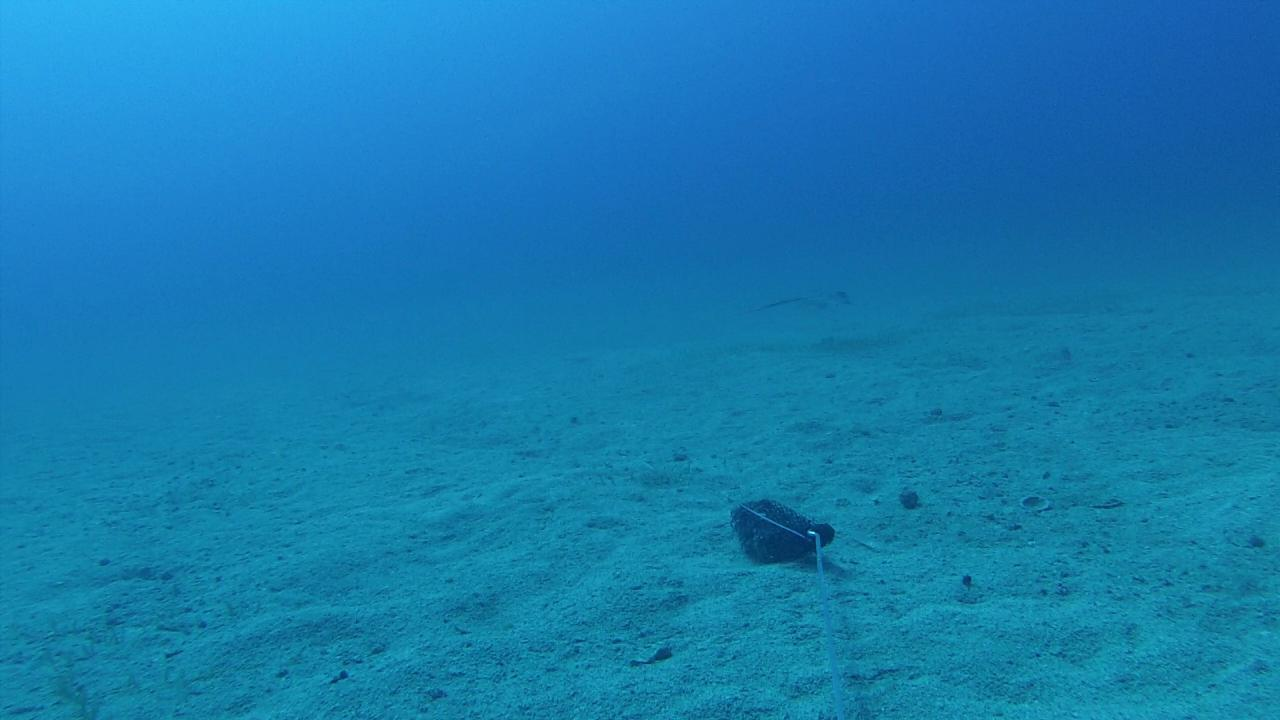dasyatis: (751, 288, 850, 312)
